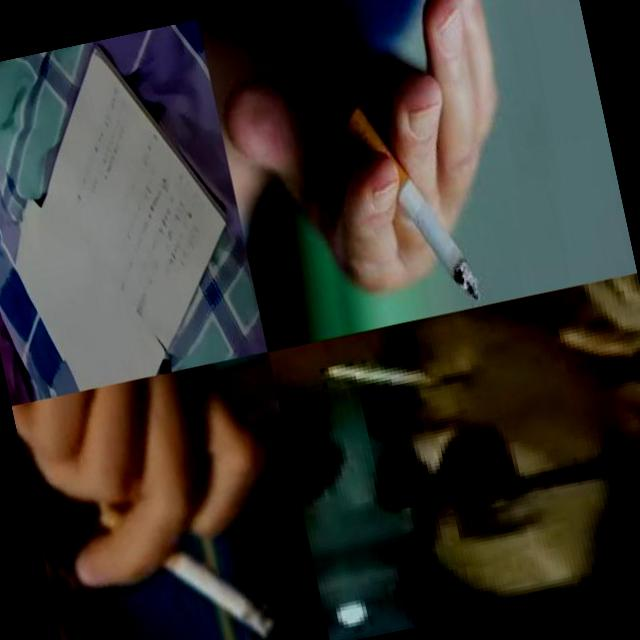smoke: (342, 87, 478, 319), (96, 471, 277, 640), (318, 342, 447, 412)
